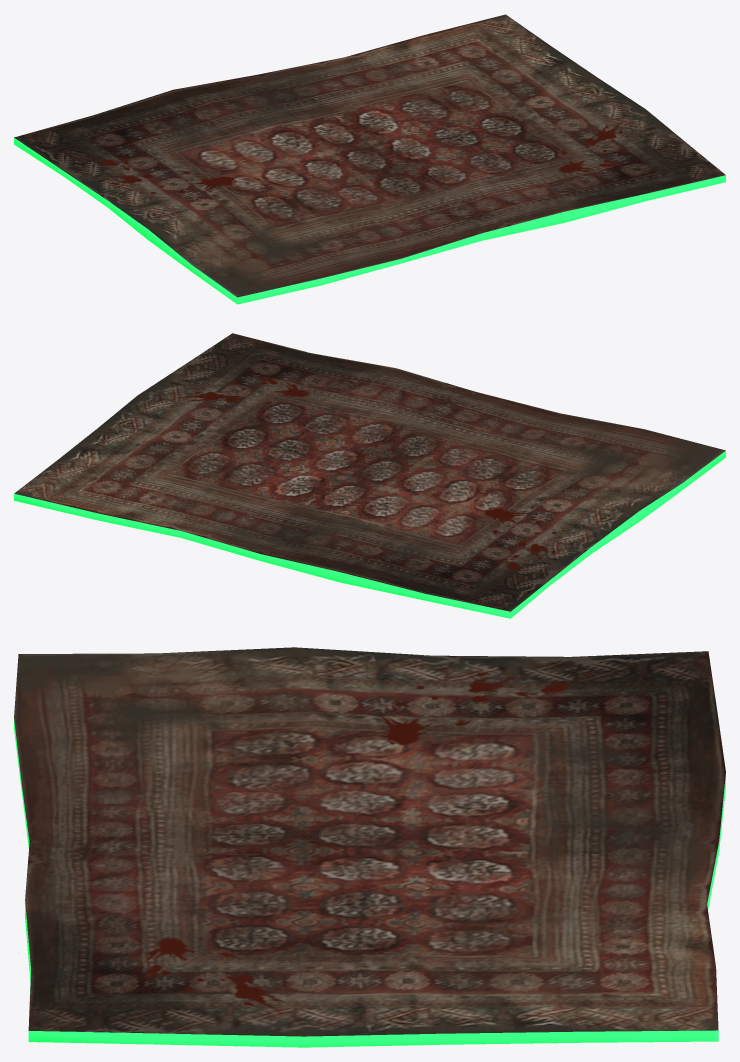
File: area_dance_carpet.glb
3 views of the same model, one above another, from view 1: azimuth 30°, elevation 25°; view 2: azimuth 150°, elevation 25°; view 3: azimuth 270°, elevation 25° (orthographic). The views are drawn at different scales.
Visible parts, largest first — view 1: F0_carpet; view 2: F0_carpet; view 3: F0_carpet.
Part boxes in pixels (<box>): F0_carpet: <box>14,14,725,304</box>; F0_carpet: <box>14,333,725,618</box>; F0_carpet: <box>14,647,725,1047</box>.
Size of what is drawn, in the model's own units: 7.02 by 0.1493 by 5.48.
Materials: 2 (1 with a texture image).
